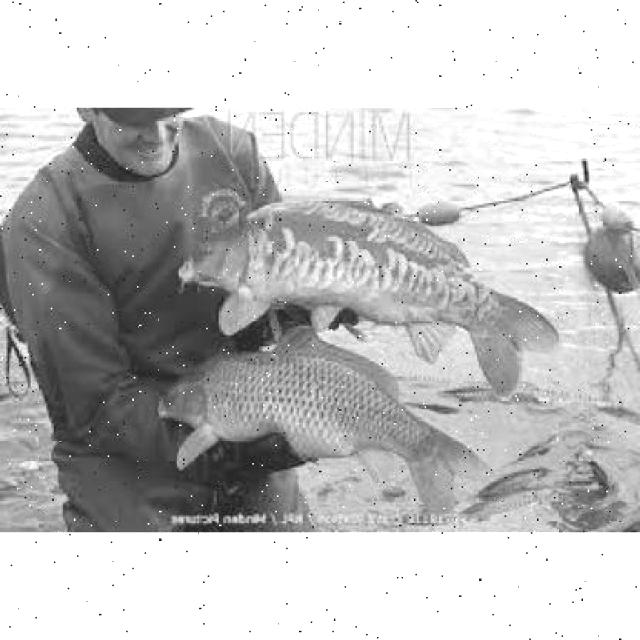ikan-mas: (178, 185, 557, 344), (153, 346, 484, 507)
